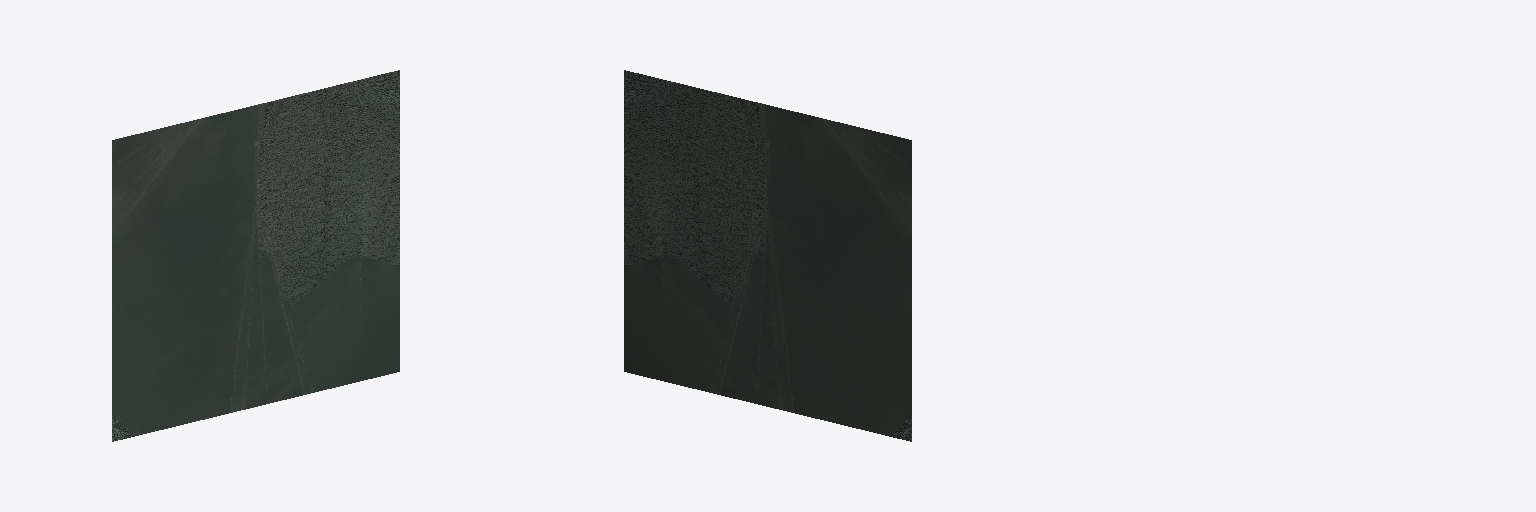
3 renders of one model, left to right at view 1: azimuth 30°, elevation 25°; view 2: azimuth 150°, elevation 25°; view 3: azimuth 270°, elevation 25°, orthographic.
Size of the model in its own units: 252 by 252 by 0.0418.
Materials: 2 (1 with a texture image).